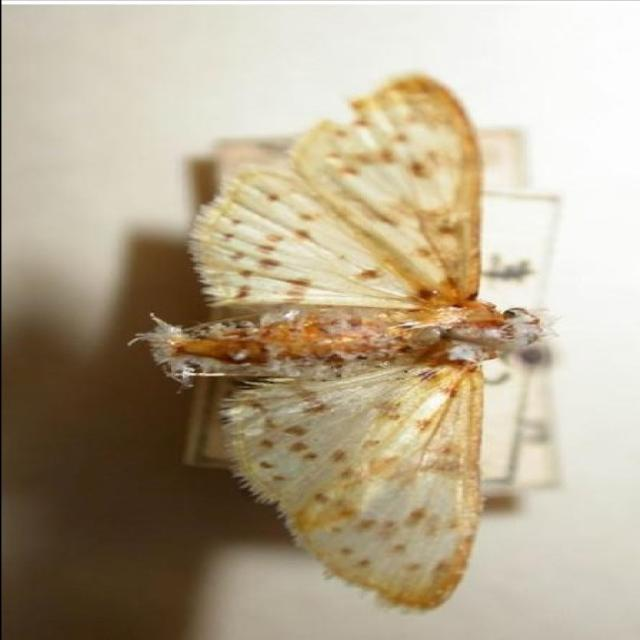peach borer: (130, 73, 553, 612)
